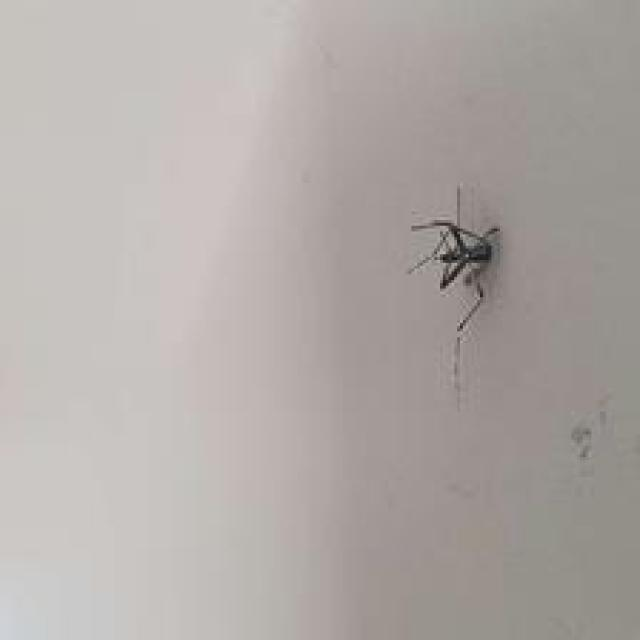Aedes albopictus: (406, 183, 503, 408)
